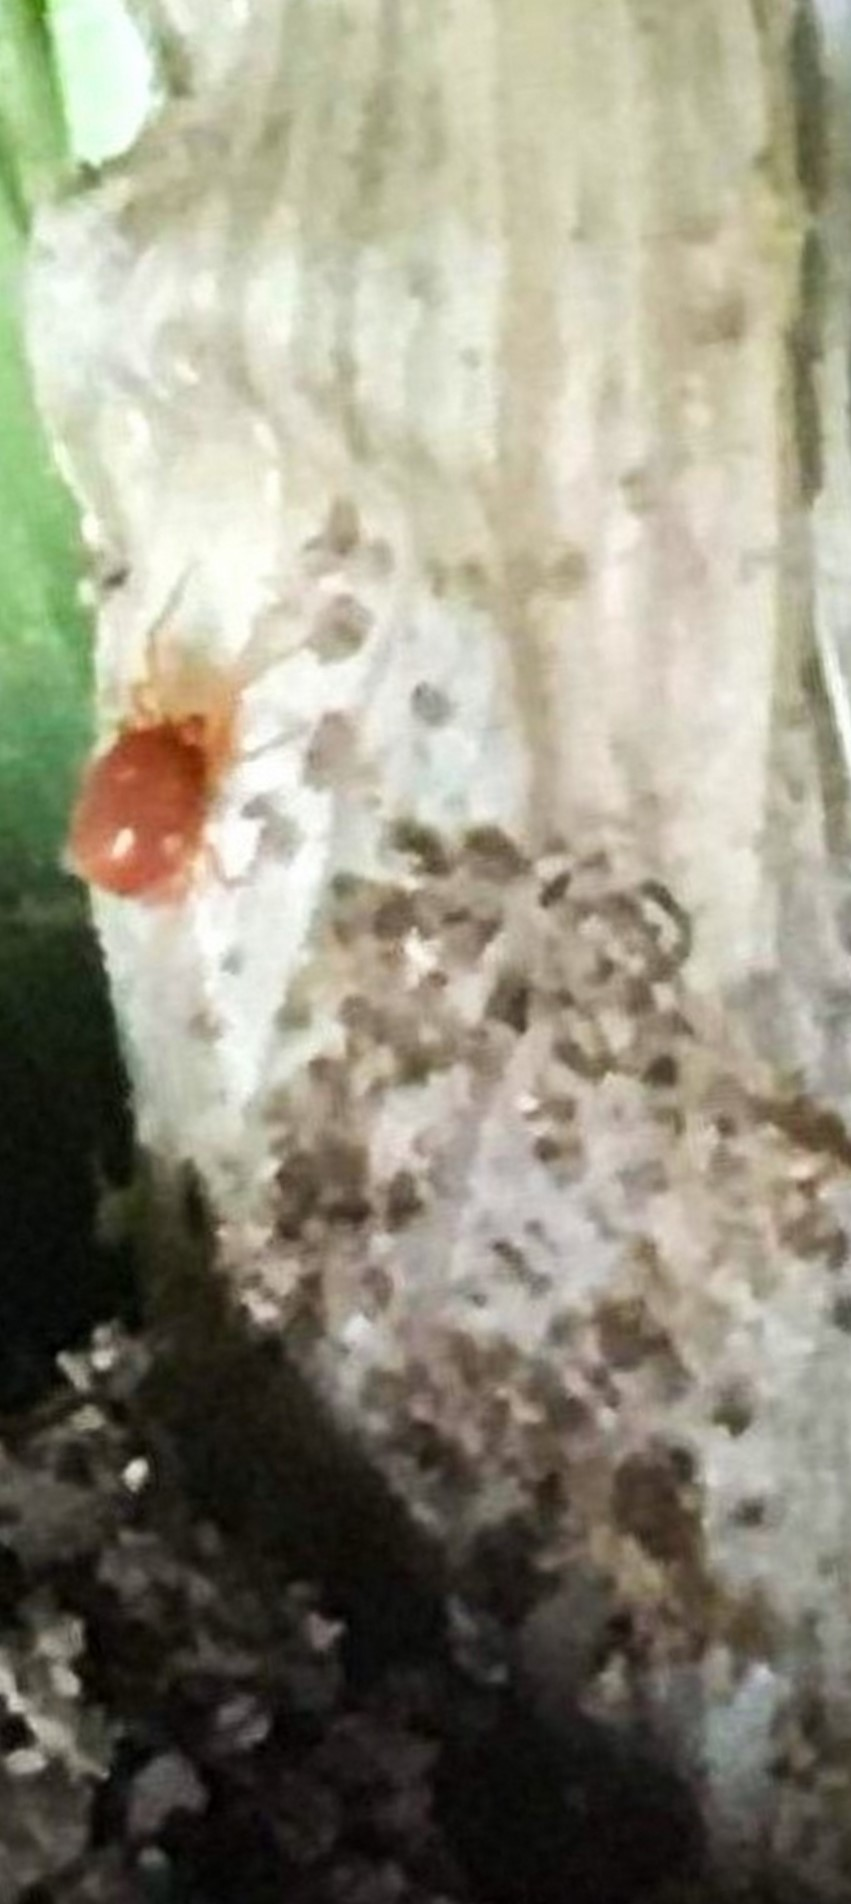Wheat Red Spider: (40, 545, 363, 967)
